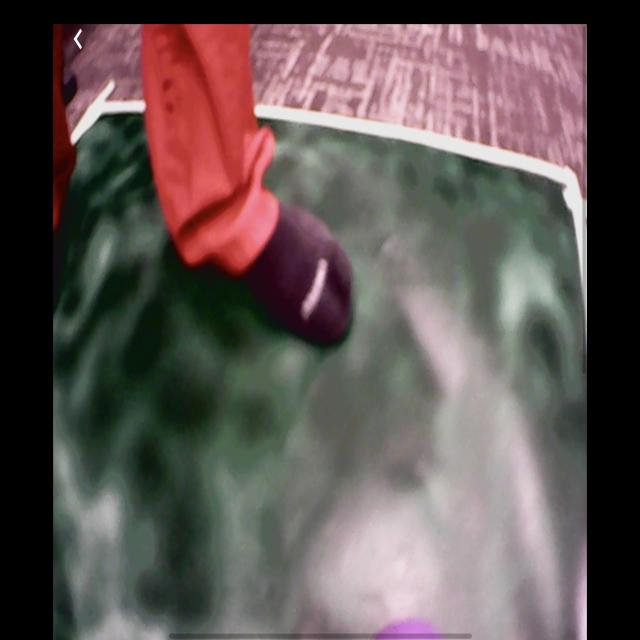ball: (373, 617, 442, 640)
